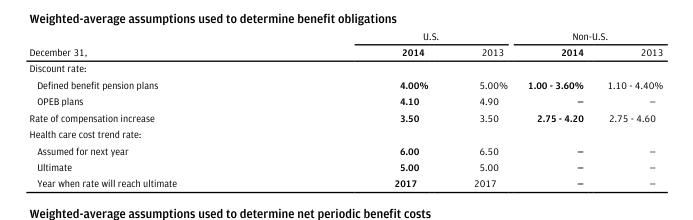table: (28, 28, 662, 188)
table column: (28, 28, 284, 188), (284, 28, 450, 188), (517, 28, 594, 188), (594, 28, 662, 188), (450, 28, 517, 188)
table column header: (28, 28, 662, 59)
table projected row header: (28, 59, 662, 76), (28, 125, 662, 141)
table row: (28, 59, 662, 76), (28, 108, 662, 125), (28, 141, 662, 158), (28, 43, 662, 59), (28, 76, 662, 92), (28, 92, 662, 108), (28, 125, 662, 141), (28, 158, 662, 174), (28, 28, 662, 43), (28, 174, 662, 188)
table spanning cell: (28, 28, 284, 59), (284, 28, 517, 43), (517, 28, 662, 43)
